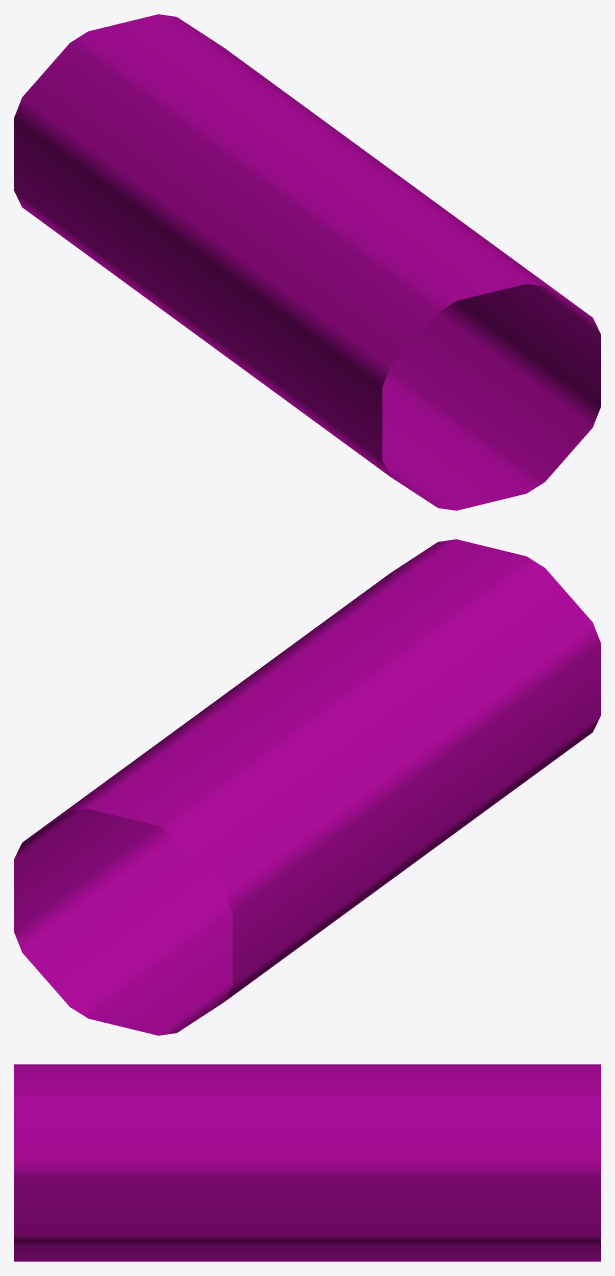
File: Icorridor 0.25.fbx
The picture shows the model from 3 angles, top to bottom: view 1: azimuth 30°, elevation 25°; view 2: azimuth 150°, elevation 25°; view 3: azimuth 270°, elevation 25°; orthographic projection. The views are drawn at different scales.
Visible parts, largest first — view 1: I_Corridor; view 2: I_Corridor; view 3: I_Corridor.
Boxes of the visible parts, box(x1,y1,x2,y2) form: I_Corridor: box(14, 14, 600, 510); I_Corridor: box(14, 539, 600, 1035); I_Corridor: box(14, 1064, 600, 1261).
Bounding box in the file's own units: 24 × 22 × 70.
